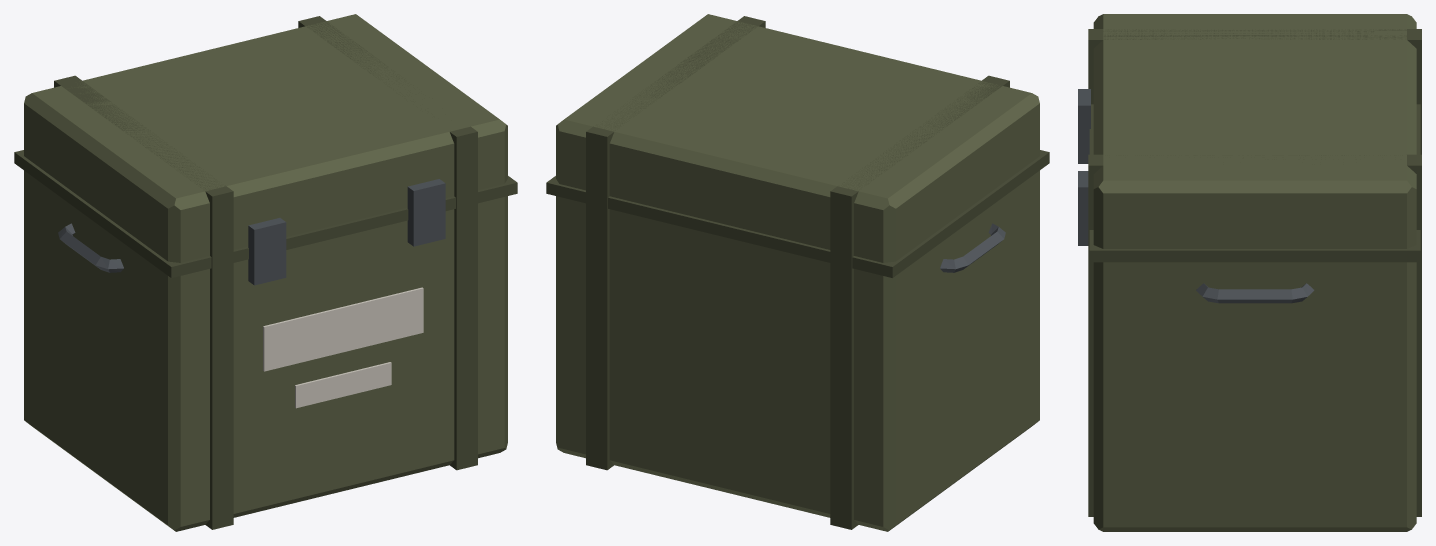
File: caisse_armee.glb
The picture shows the model from 3 angles, left to right: view 1: azimuth 30°, elevation 25°; view 2: azimuth 150°, elevation 25°; view 3: azimuth 270°, elevation 25°; orthographic projection. The views are drawn at different scales.
Visible parts, largest first — view 1: box, ribs, stencil, seam, latches, stencil_2, handles; view 2: box, ribs, seam, handles; view 3: box, ribs, seam, latches, handles_r.
Part boxes in pixels (box(x1,y1,x2,y2)): box: box(24, 14, 507, 531); ribs: box(54, 16, 477, 529); stencil: box(263, 287, 423, 371); seam: box(14, 150, 517, 277); latches: box(248, 179, 445, 285); stencil_2: box(295, 362, 391, 408); handles: box(58, 223, 123, 272); box: box(556, 14, 1039, 531); ribs: box(586, 16, 1009, 529); seam: box(546, 150, 1049, 277); handles: box(940, 223, 1005, 272); box: box(1093, 14, 1416, 531); ribs: box(1088, 29, 1421, 516); seam: box(1089, 104, 1420, 262); latches: box(1078, 89, 1090, 245); handles_r: box(1196, 283, 1314, 303).
Bounding box in the file's own units: 0.7095 × 0.6 × 0.532.
4 materials, 4 textured.
